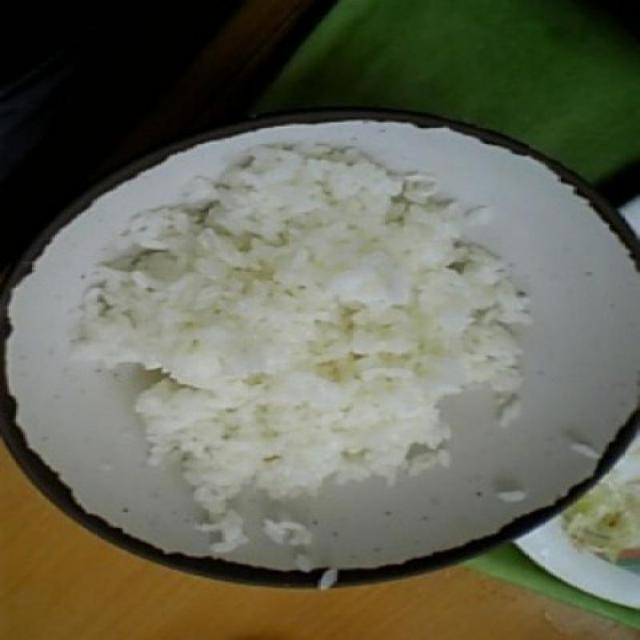nasi_putih: (81, 138, 536, 512)
